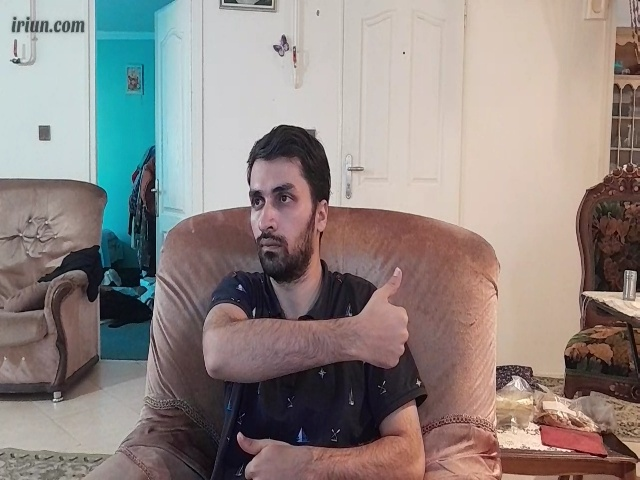ThumbsUp: (360, 268, 410, 370)
